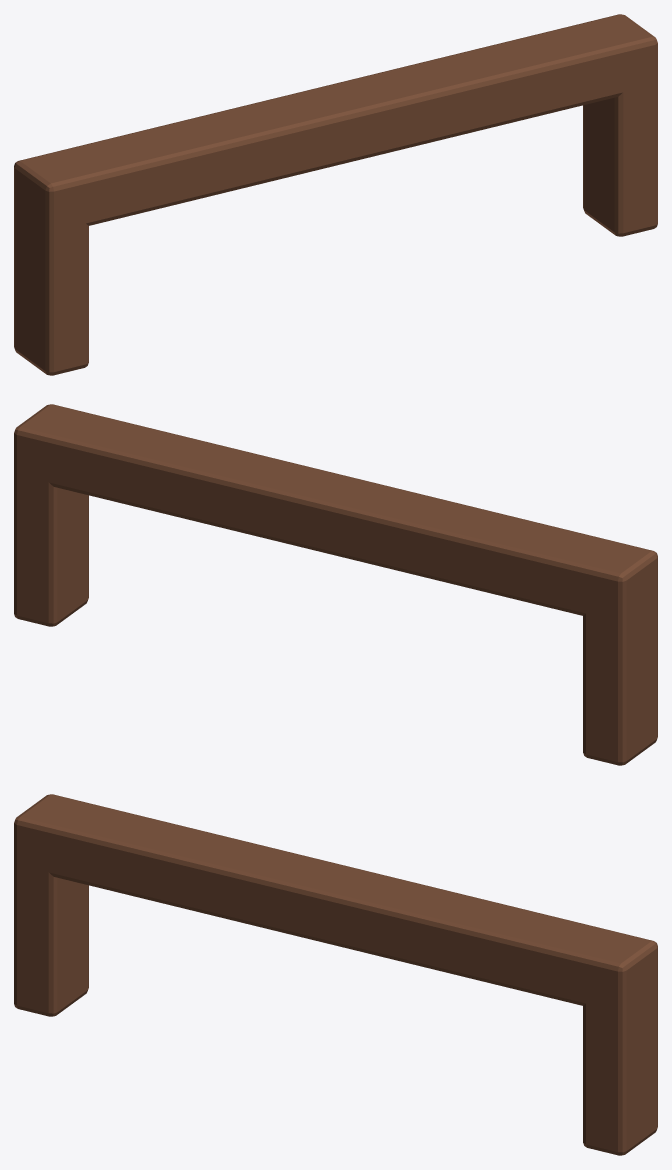
The model's file is wall_knee_2m__structure.glb.
3 renders of one model, top to bottom at view 1: azimuth 30°, elevation 25°; view 2: azimuth 150°, elevation 25°; view 3: azimuth 330°, elevation 25°, orthographic.
Visible parts, largest first — view 1: wall_knee_2m__structure__mesh_00; view 2: wall_knee_2m__structure__mesh_00; view 3: wall_knee_2m__structure__mesh_00.
Part boxes in pixels (x1,y1,x2,y2): wall_knee_2m__structure__mesh_00: (14, 14, 657, 375); wall_knee_2m__structure__mesh_00: (14, 404, 657, 765); wall_knee_2m__structure__mesh_00: (14, 794, 657, 1155).
Size of the model in its own units: 2 by 0.6 by 0.21.
